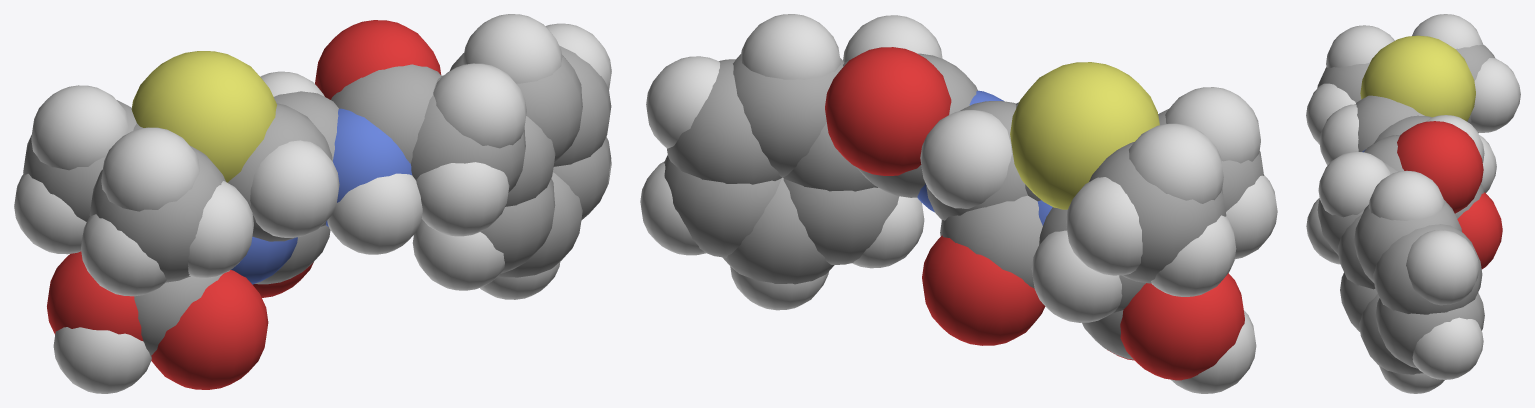
File: penicillin-cpk.glb
3 views of the same model, side by side, from view 1: azimuth 30°, elevation 25°; view 2: azimuth 150°, elevation 25°; view 3: azimuth 270°, elevation 25° (orthographic). The views are drawn at different scales.
Parts seen in each view (by area): view 1: penicillin-cpk; view 2: penicillin-cpk; view 3: penicillin-cpk.
Part boxes in pixels (left/top/right/bottom): penicillin-cpk: left=14, top=14, right=611, bottom=393; penicillin-cpk: left=640, top=14, right=1277, bottom=393; penicillin-cpk: left=1306, top=14, right=1520, bottom=393.
Size of the model in its own units: 15.86 by 8.11 by 6.68.
